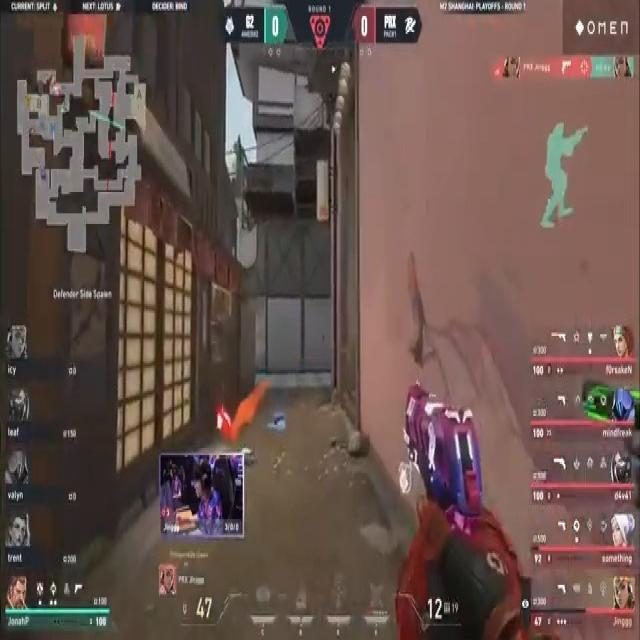ally behind wall: (541, 120, 581, 234)
